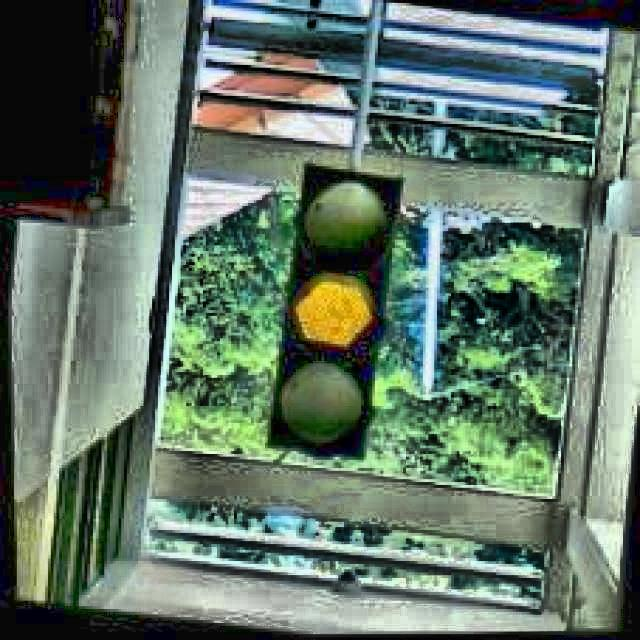yellow: (279, 159, 393, 461)
